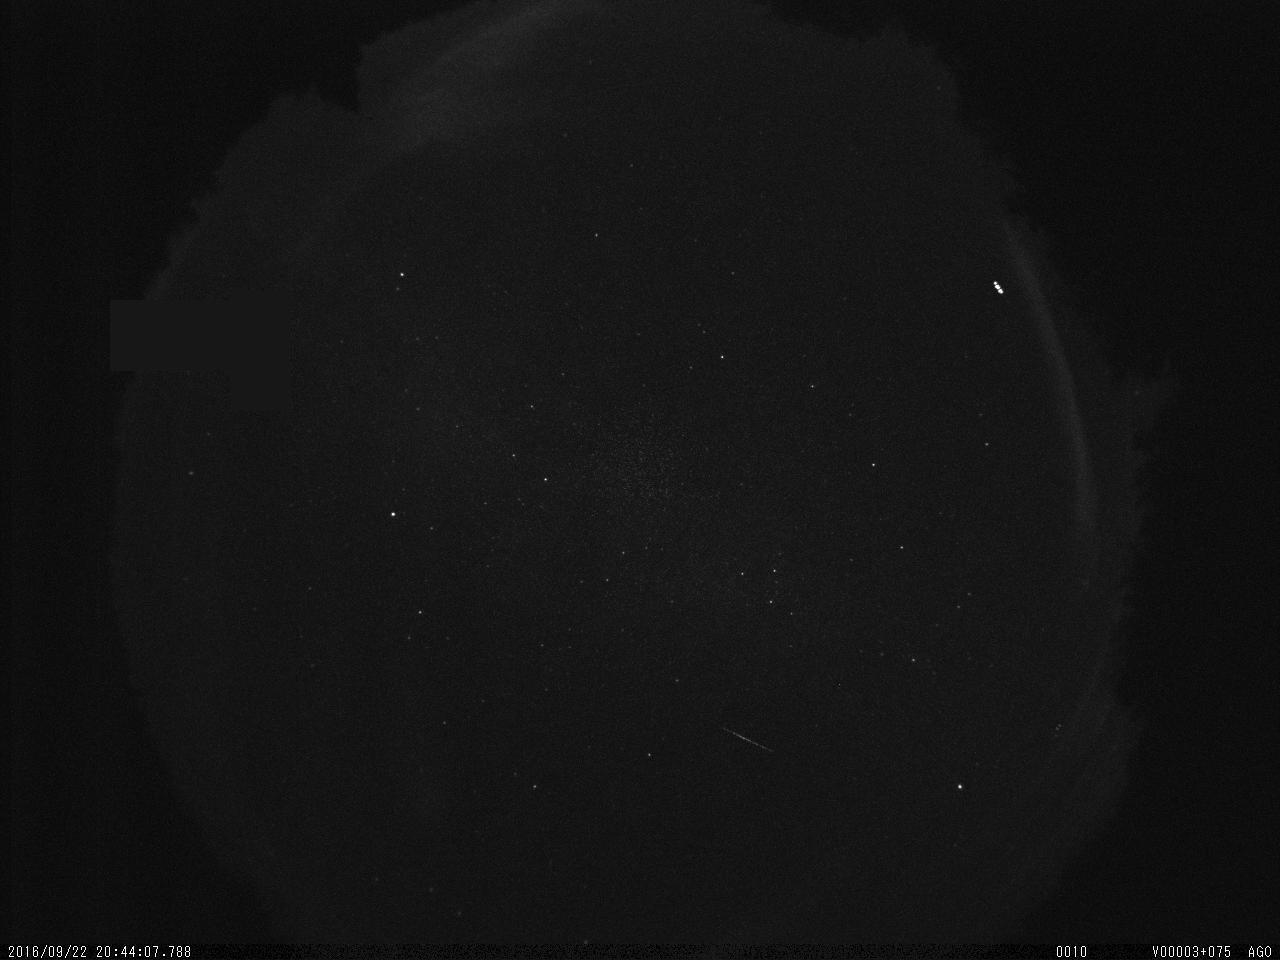meteor: (714, 713, 780, 761)
satelite: (988, 272, 1010, 302)
